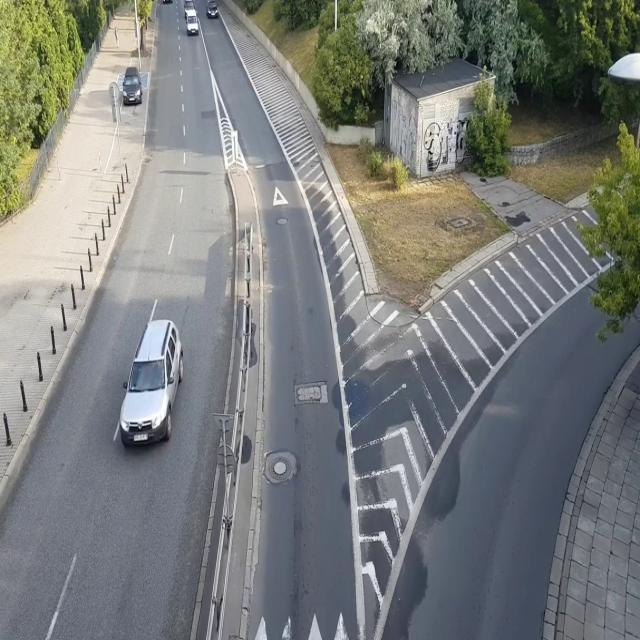car: (115, 317, 187, 452), (122, 64, 142, 105), (206, 1, 218, 18), (184, 0, 195, 15)
van: (185, 9, 199, 36)
